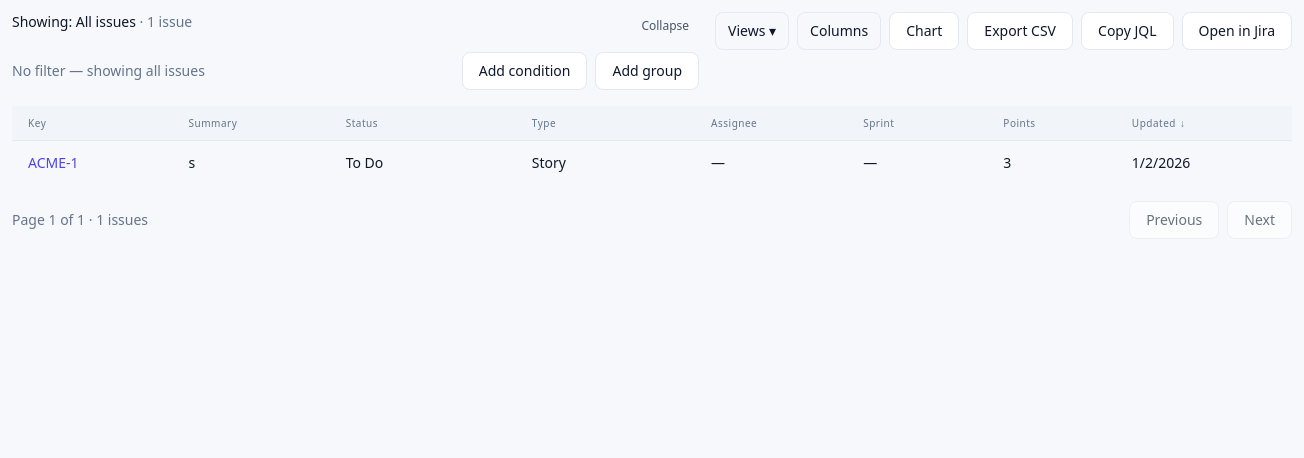
it: IssueList — chart › opens from the toolbar, lives in the URL, and closes with ×
The width and height of the screenshot is (1304, 458).
Expected: the link "ACME-1" is shown, [28,153,78,172]
Click the button "Chart" at (924, 31), box [889,12,959,50]
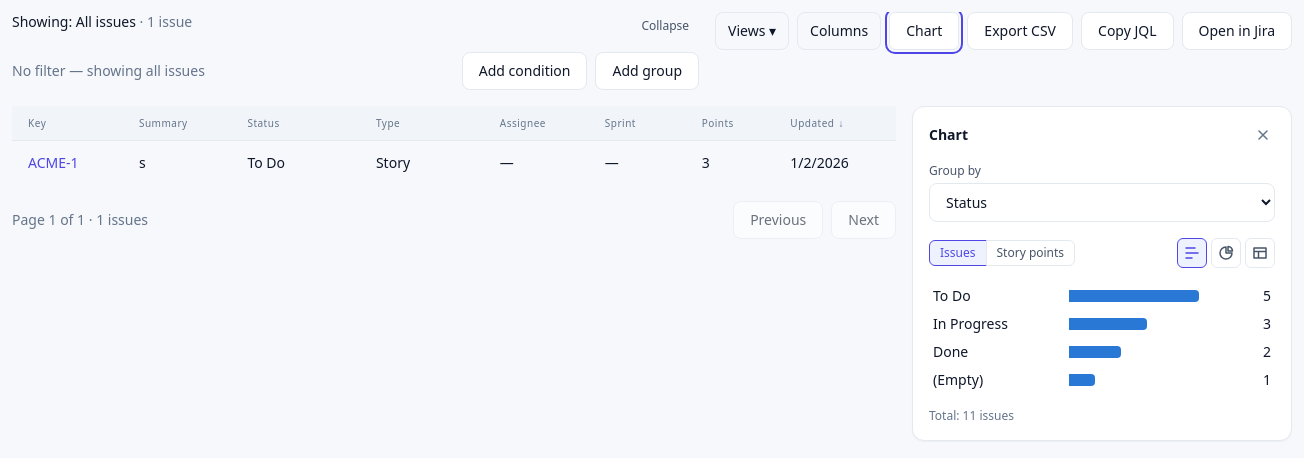
Expected: the button with aria-label "Filter to To Do: 5" is shown, [929,284,1275,308]
Click the button named "Close chart" at (1263, 135), box [1251,123,1275,147]
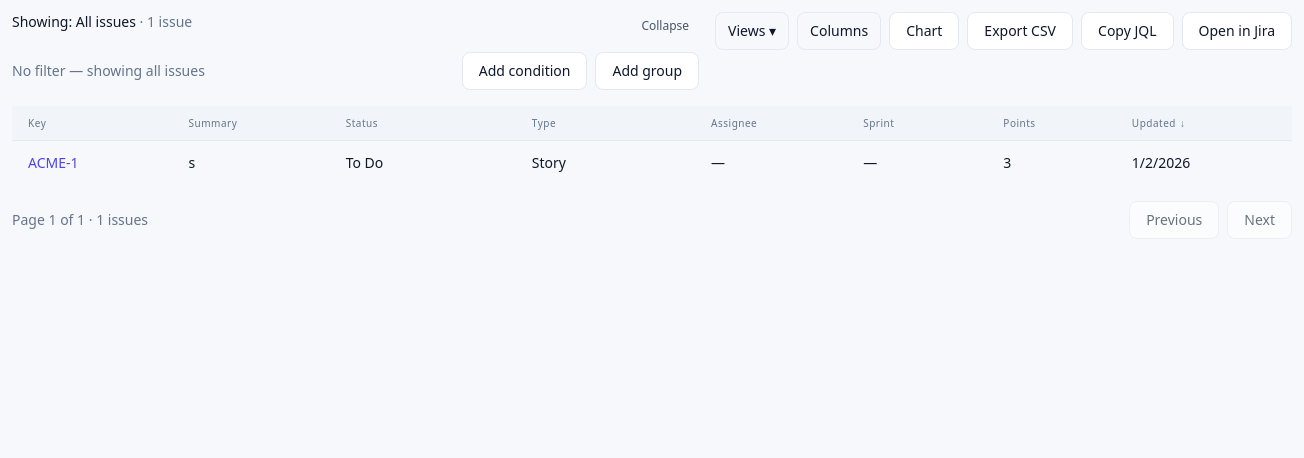
Expected: the label labelled "Group by" is gone
